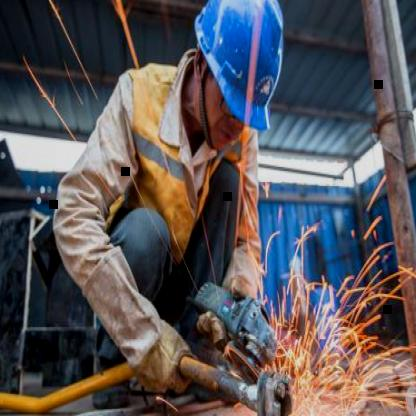helmet: (191, 0, 290, 131)
